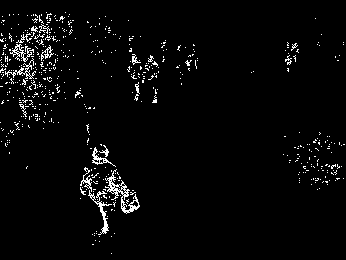person: (80, 144, 140, 238), (142, 54, 161, 104), (128, 53, 143, 103)
